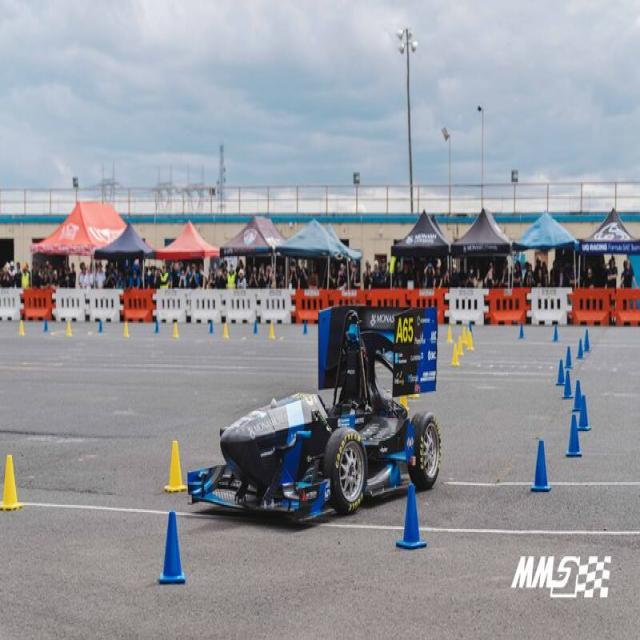blue_cone: (397, 484, 426, 549), (159, 512, 185, 582), (531, 440, 550, 490), (567, 416, 580, 456), (577, 397, 591, 431), (572, 381, 581, 412), (562, 371, 572, 398), (556, 360, 564, 385), (576, 339, 584, 358), (565, 346, 572, 367), (584, 330, 590, 350), (553, 326, 558, 340), (519, 324, 524, 338), (253, 320, 258, 334), (209, 320, 214, 334), (303, 321, 308, 334), (468, 322, 473, 334), (155, 320, 159, 332), (99, 320, 103, 332), (44, 320, 48, 332)
yellow_cone: (165, 440, 186, 491), (1, 454, 20, 510), (451, 343, 460, 366), (456, 336, 464, 356), (122, 321, 130, 337), (467, 333, 474, 350), (269, 322, 275, 339), (66, 321, 72, 336), (173, 323, 179, 337), (19, 320, 24, 336), (447, 326, 452, 342), (465, 330, 470, 346), (222, 324, 228, 337), (462, 328, 466, 343)
